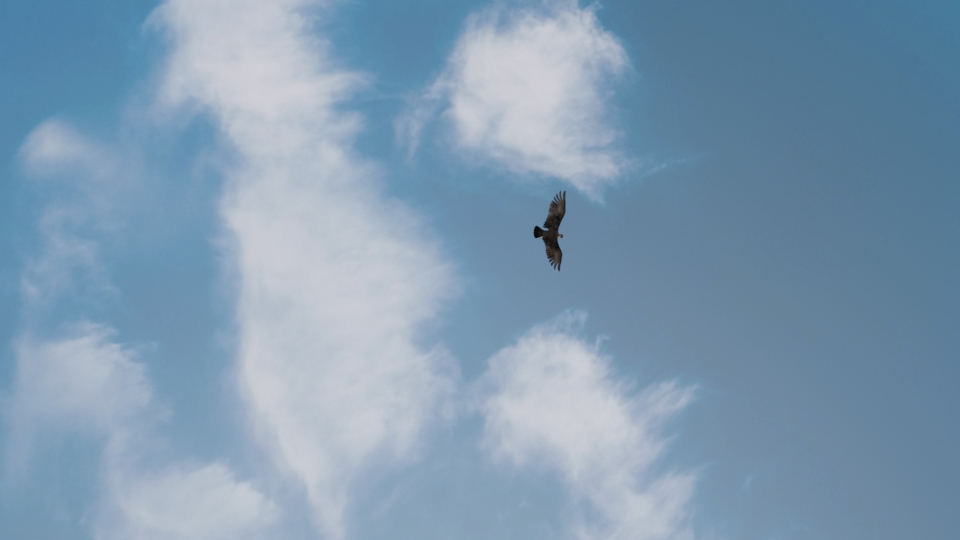bird: (533, 192, 570, 270)
